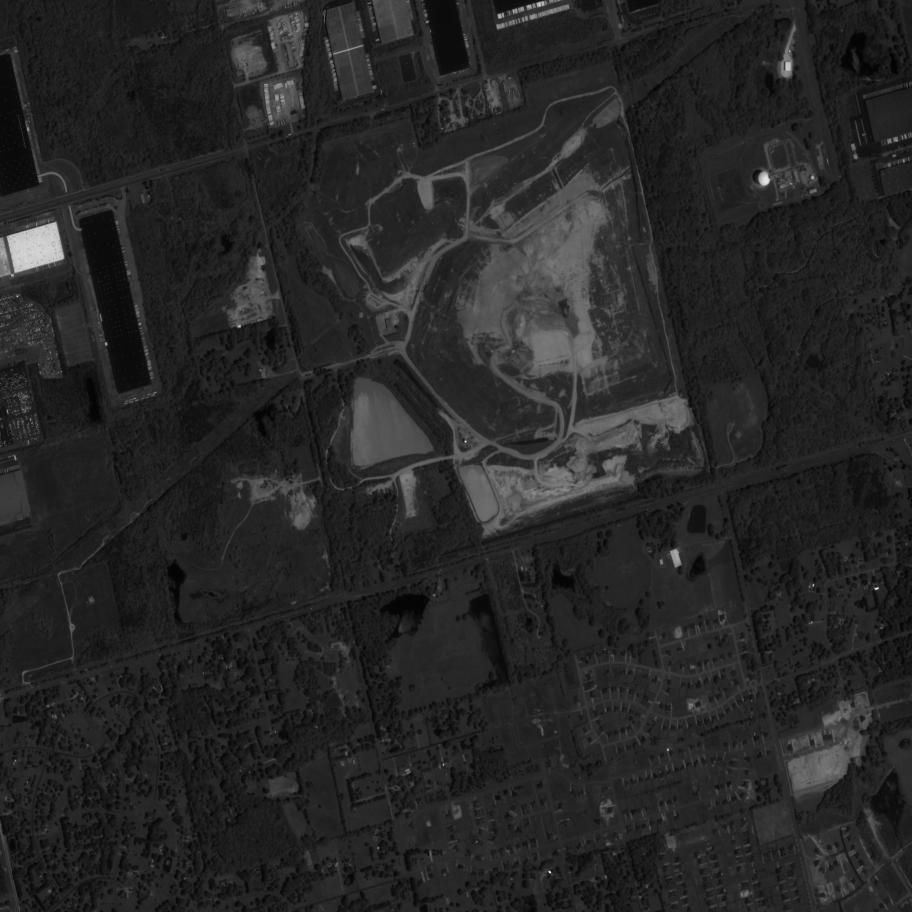storage-tank: (756, 172, 771, 186), (463, 439, 468, 444), (810, 176, 815, 180)
